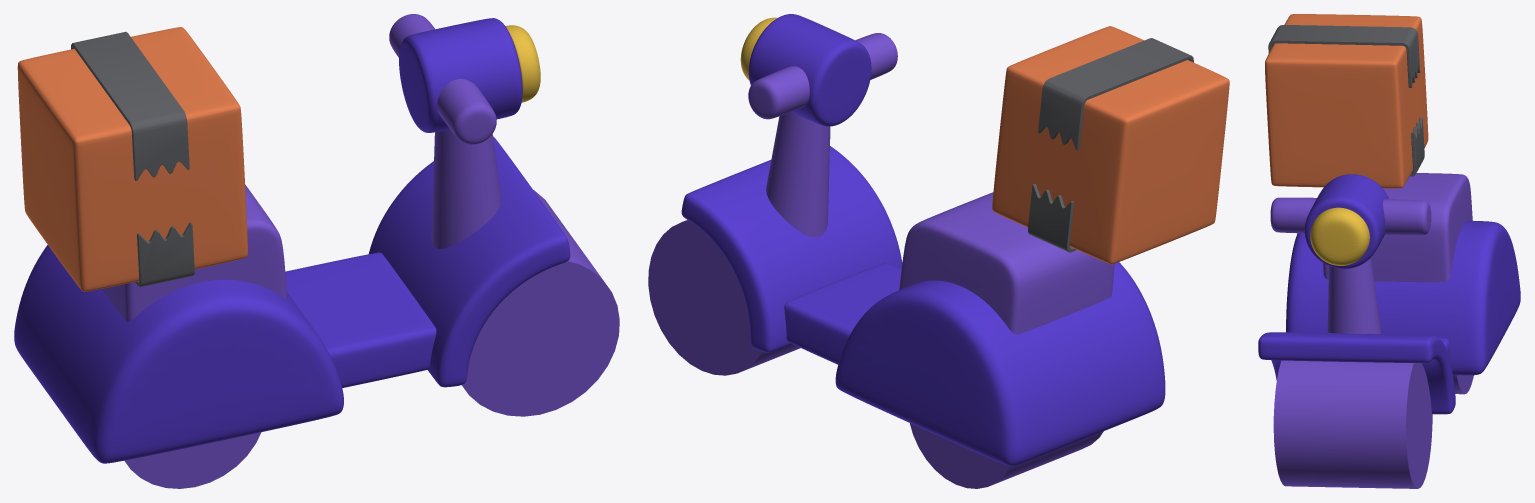
File: motorcycle-shipping-3d-icon-417274781335.glb
3 renders of one model, left to right at view 1: azimuth 30°, elevation 25°; view 2: azimuth 150°, elevation 25°; view 3: azimuth 270°, elevation 25°, orthographic. The views are drawn at different scales.
Parts seen in each view (by area): view 1: Body 1, Box, Body 2, Tape, Headlamp; view 2: Body 1, Body 2, Box, Tape, Headlamp; view 3: Body 2, Body 1, Box, Tape, Headlamp.
Boxes of the visible parts, <box> form: Body 1: <box>14,18,570,463</box>; Box: <box>17,27,247,291</box>; Body 2: <box>102,14,619,488</box>; Tape: <box>71,32,194,286</box>; Headlamp: <box>505,25,540,102</box>; Body 1: <box>681,14,1165,466</box>; Body 2: <box>648,33,1114,488</box>; Box: <box>992,26,1229,264</box>; Tape: <box>1028,38,1193,252</box>; Headlamp: <box>740,17,777,80</box>; Body 2: <box>1270,173,1473,488</box>; Body 1: <box>1258,174,1520,414</box>; Box: <box>1265,14,1428,188</box>; Tape: <box>1268,25,1424,176</box>; Headlamp: <box>1310,207,1369,265</box>.
Bounding box in the file's own units: 2.04 × 1.52 × 1.08.
